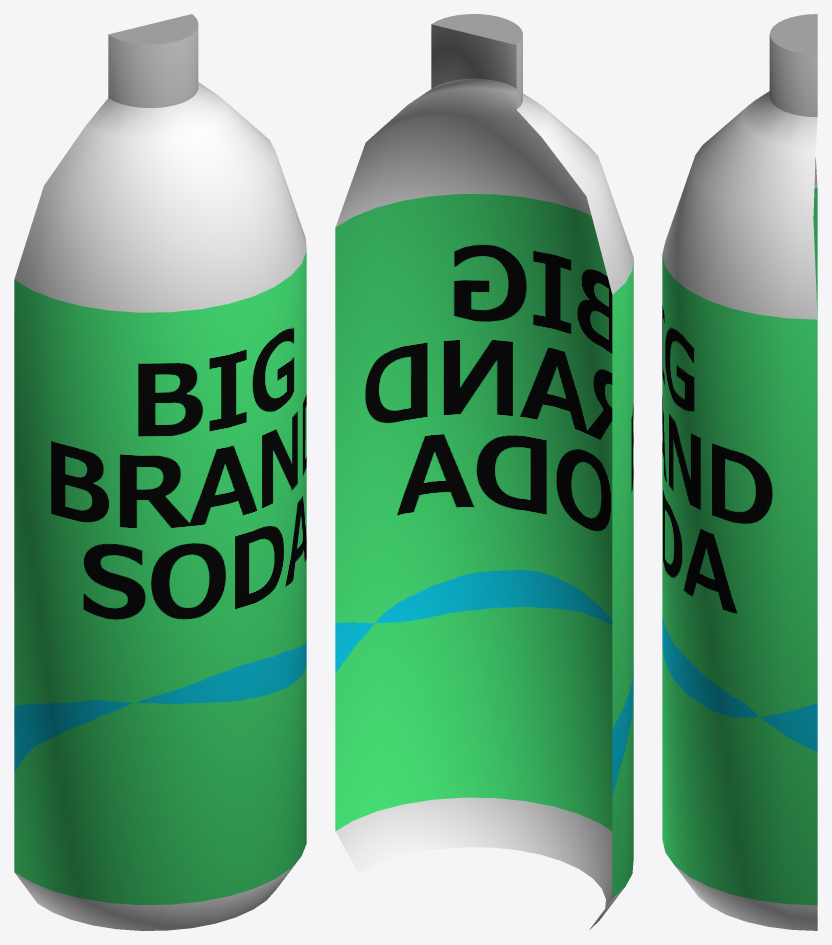
The model's file is Bottle.obj.
3 renders of one model, left to right at view 1: azimuth 30°, elevation 25°; view 2: azimuth 150°, elevation 25°; view 3: azimuth 270°, elevation 25°, orthographic. The views are drawn at different scales.
Visible parts, largest first — view 1: Bottle_Cylinder.002; view 2: Bottle_Cylinder.002; view 3: Bottle_Cylinder.002.
Part boxes in pixels (<box>): Bottle_Cylinder.002: <box>14,14,306,930</box>; Bottle_Cylinder.002: <box>335,14,633,929</box>; Bottle_Cylinder.002: <box>662,14,817,930</box>.
Bounding box in the file's own units: 1.18 × 3.55 × 0.592.
1 material, 1 textured.
